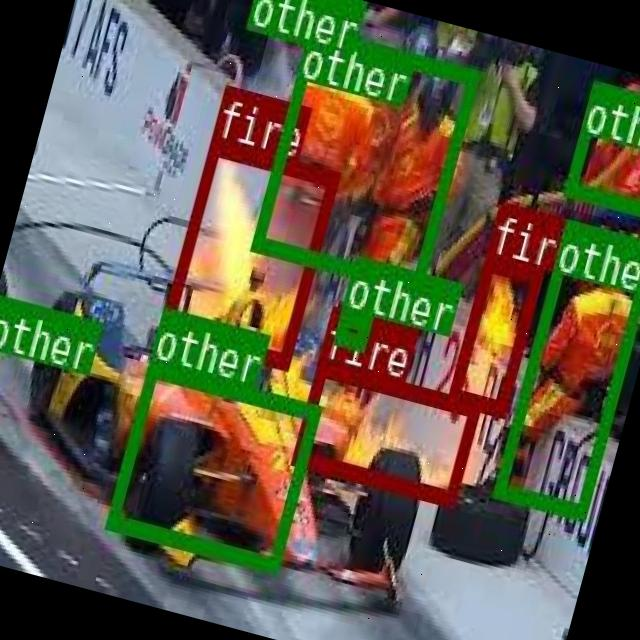fire: (157, 137, 338, 367), (290, 356, 480, 504), (444, 251, 544, 415)
